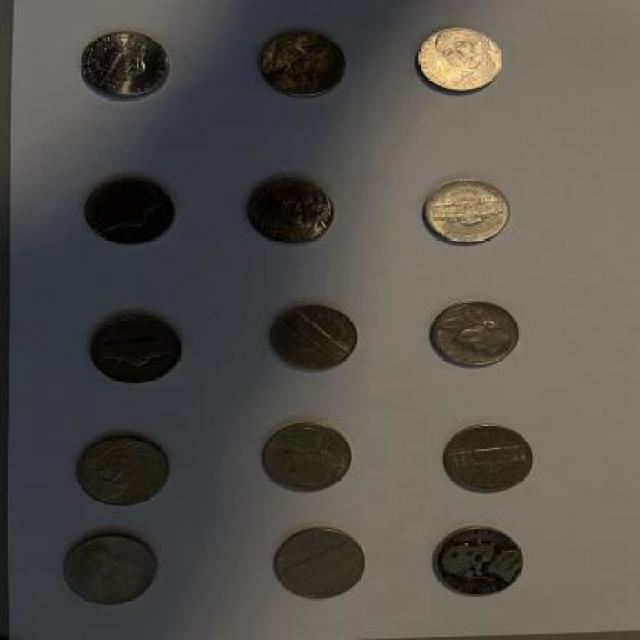Nickel: (56, 531, 164, 611), (268, 526, 370, 606), (428, 522, 524, 602), (81, 172, 180, 248), (254, 24, 352, 99), (429, 292, 523, 370), (75, 434, 174, 508), (242, 169, 336, 246), (416, 176, 509, 250), (80, 30, 171, 104), (266, 303, 359, 374), (440, 426, 532, 497), (261, 422, 354, 492), (86, 318, 180, 386), (416, 24, 504, 94)
